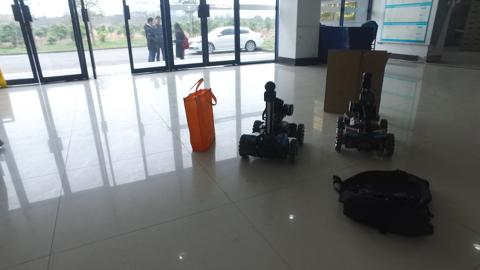bag: (333, 168, 435, 239), (182, 79, 220, 154)
chariot: (239, 82, 305, 165), (334, 75, 396, 158)
